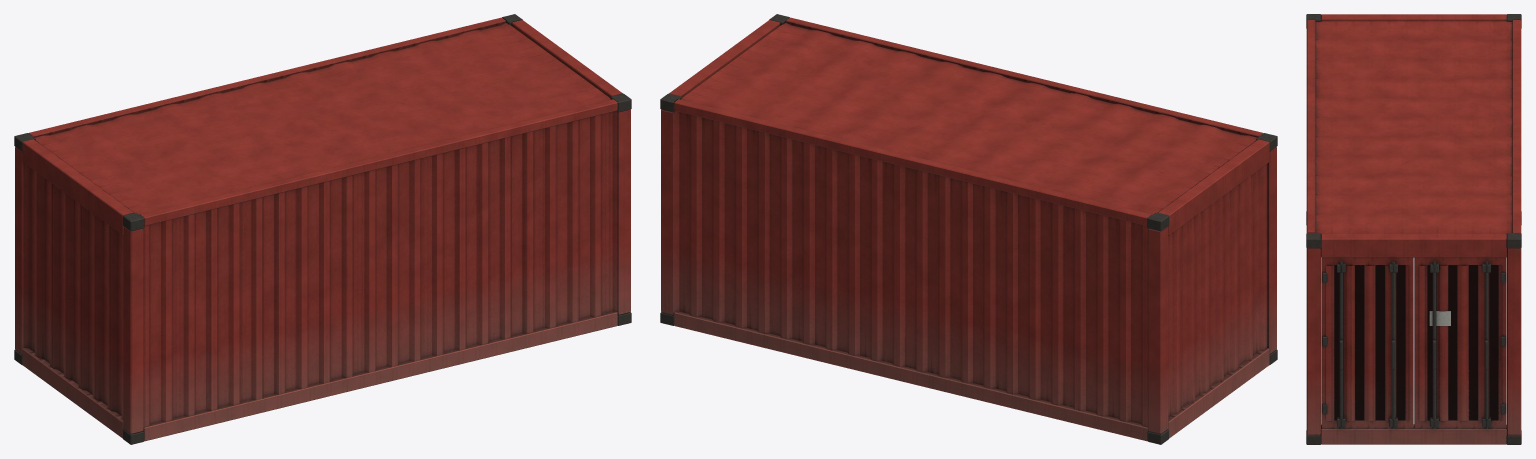
The model's file is container20_red.glb.
3 views of the same model, side by side, from view 1: azimuth 30°, elevation 25°; view 2: azimuth 150°, elevation 25°; view 3: azimuth 270°, elevation 25° (orthographic). The views are drawn at different scales.
Visible parts, largest first — view 1: container20_red; view 2: container20_red; view 3: container20_red.
Boxes of the visible parts, left/top/right/bottom form: container20_red: left=14, top=14, right=631, bottom=444; container20_red: left=660, top=14, right=1277, bottom=444; container20_red: left=1306, top=14, right=1521, bottom=444.
Size of the model in its own units: 6.18 by 2.59 by 2.45.
Materials: 1 (1 with a texture image).
